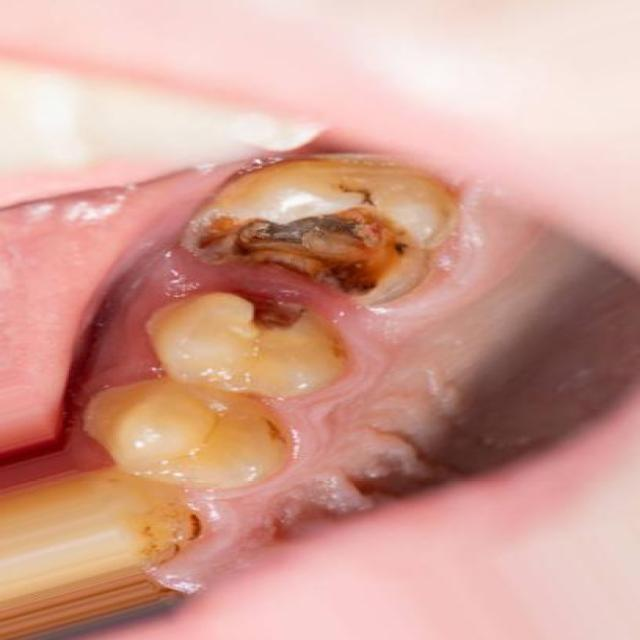caries: (192, 162, 407, 294), (223, 283, 317, 347)
